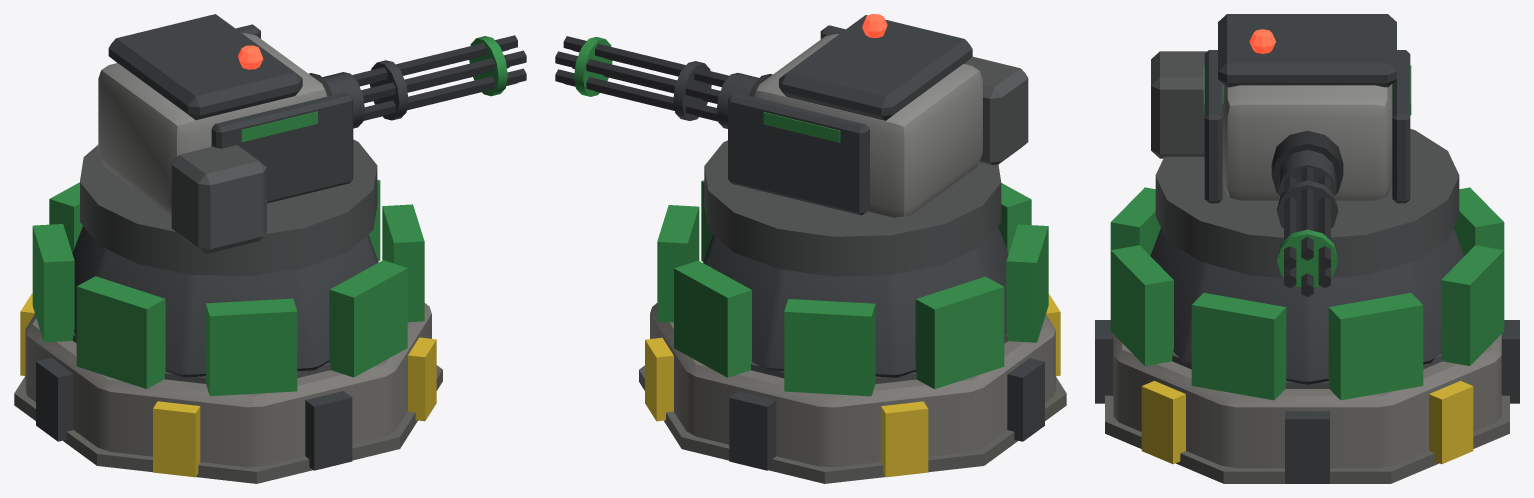
File: gatling.glb
The picture shows the model from 3 angles, left to right: view 1: azimuth 30°, elevation 25°; view 2: azimuth 150°, elevation 25°; view 3: azimuth 270°, elevation 25°; orthographic projection.
Visible parts, largest first — view 1: Gatling_Details, Gatling_head, Gatling_Frame, Gatling_Foundation, Gatling_gat; view 2: Gatling_Details, Gatling_head, Gatling_Frame, Gatling_Foundation, Gatling_gat; view 3: Gatling_Details, Gatling_head, Gatling_Frame, Gatling_Foundation, Gatling_gat.
Boxes of the visible parts, box(x1,y1,x2,y2) form: Gatling_Details: box(20, 179, 436, 477); Gatling_head: box(98, 14, 353, 253); Gatling_Frame: box(72, 139, 378, 377); Gatling_Foundation: box(14, 303, 442, 483); Gatling_gat: box(322, 35, 526, 128); Gatling_Details: box(645, 180, 1060, 477); Gatling_head: box(728, 14, 1028, 217); Gatling_Frame: box(703, 140, 1008, 377); Gatling_Foundation: box(639, 303, 1066, 483); Gatling_gat: box(555, 36, 759, 128); Gatling_Details: box(1095, 187, 1519, 483); Gatling_head: box(1151, 14, 1411, 203); Gatling_Frame: box(1150, 129, 1464, 384); Gatling_Foundation: box(1105, 334, 1509, 483); Gatling_gat: box(1277, 150, 1337, 296).
Bounding box in the file's own units: 1.23 × 0.91 × 0.95.
